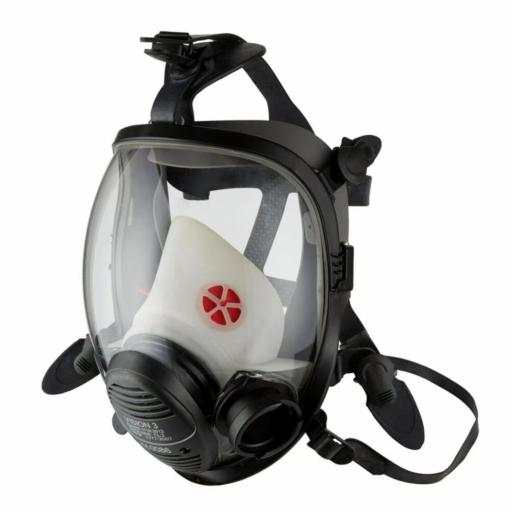mask: (80, 116, 359, 488)
